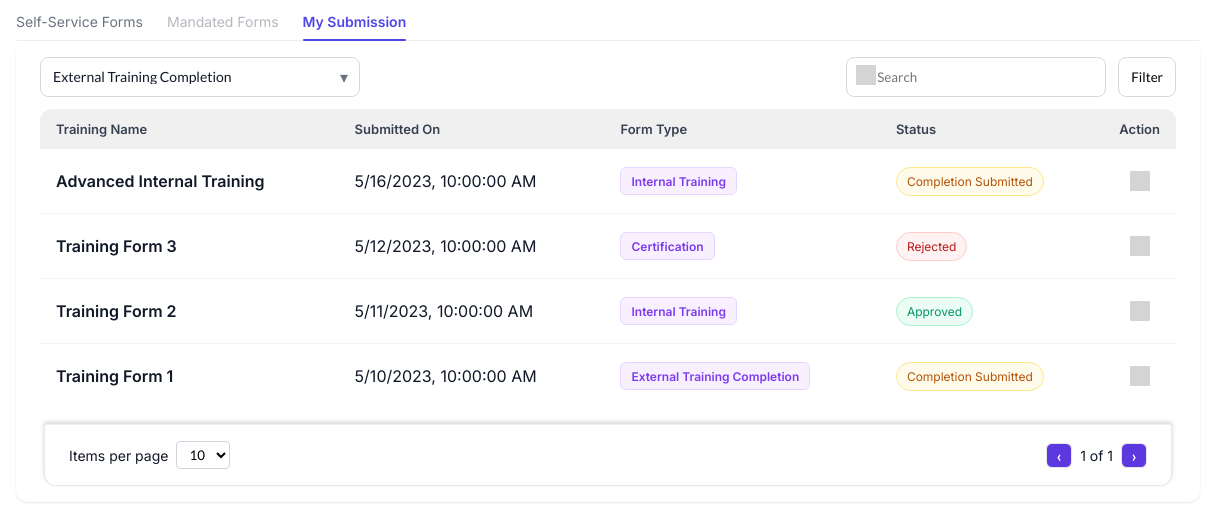
Test: MySubmissions › handles combined type and search filtering
The width and height of the screenshot is (1217, 520).
Expected: the table is shown, [40,109,1176,408]
// Select Internal Training type
Step 1. Select "Internal Training" in the 1st dropdown named "Form Type" → (200, 77), box [40,57,360,97]
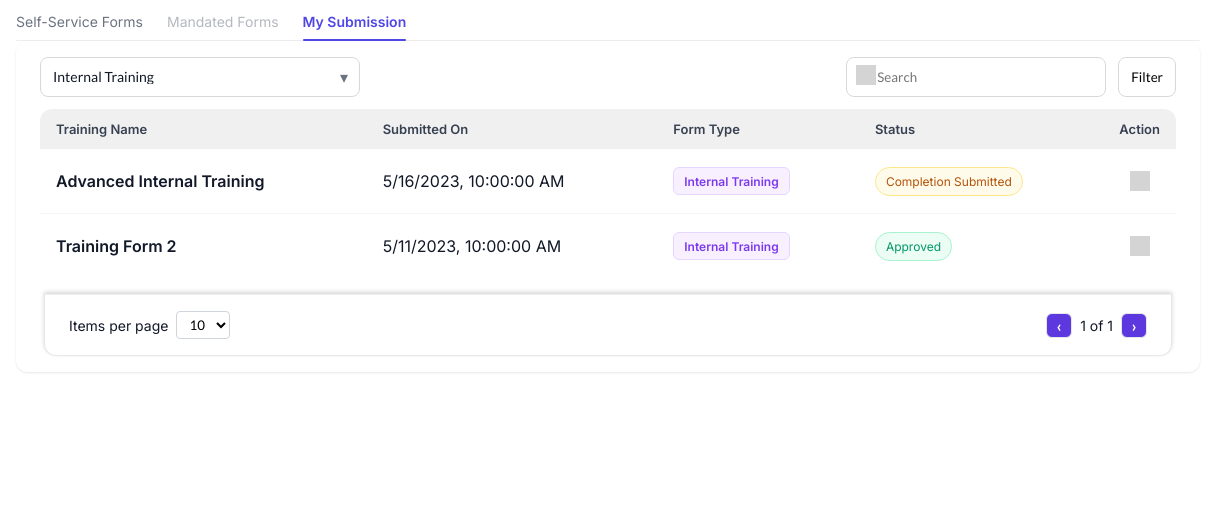
// Search for "Advanced"
Step 2. Type "Advanced" into the field with placeholder "Search" → (976, 77), box [846,57,1106,97]
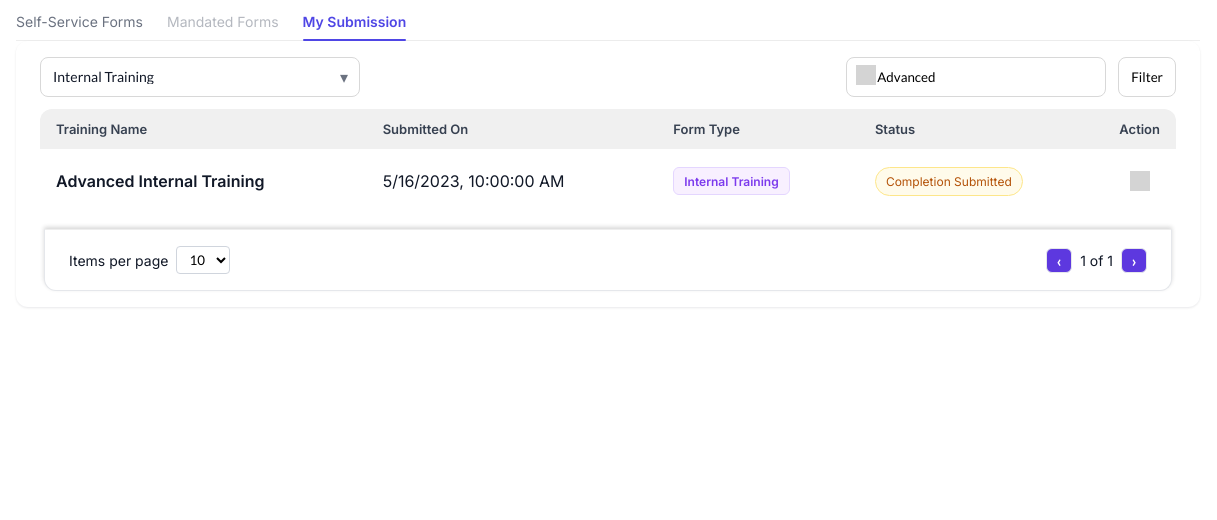
Expected: the text "Advanced Internal Training" is shown, [56,171,264,191]
Expected: the number of rows is 2, [40,109,1176,149]; [40,149,1176,213]
Expected: the text "Training Form 2" is gone
